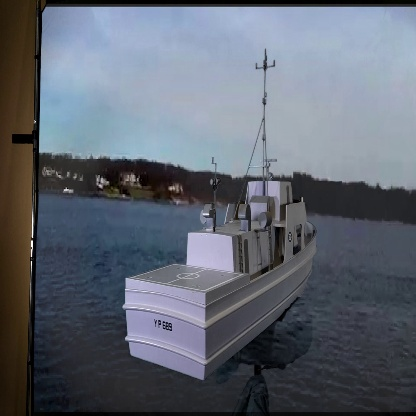YP689: (126, 44, 316, 382)
